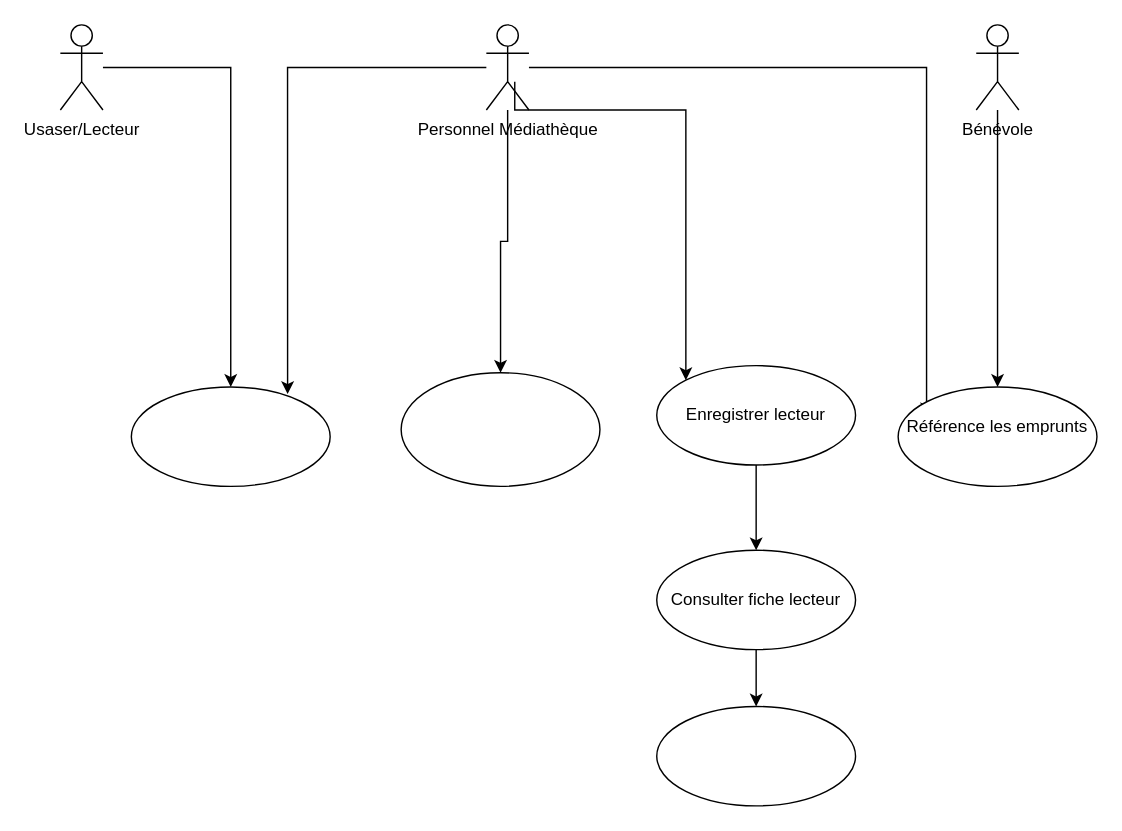
The diagram is 1122 pixels wide and 831 high, and some of its shapes have lost their labels. Each missing label, with the box of its shape:
consulter la liste des documents: (130, 386, 330, 486)
Enregistre les documents: (400, 371, 600, 486)
Modifie fiche lecteur: (655, 705, 856, 806)
